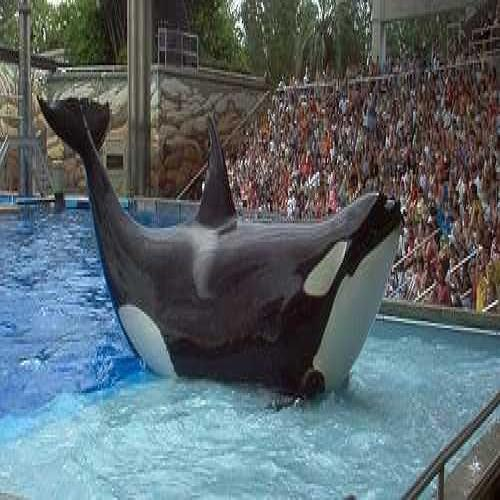killer_whale-endangered: (41, 43, 409, 426)
